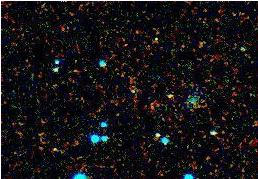star: (155, 88, 185, 118)
